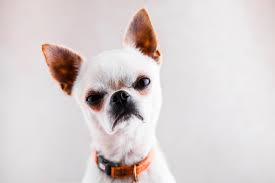Bulldog: (29, 3, 189, 183)
